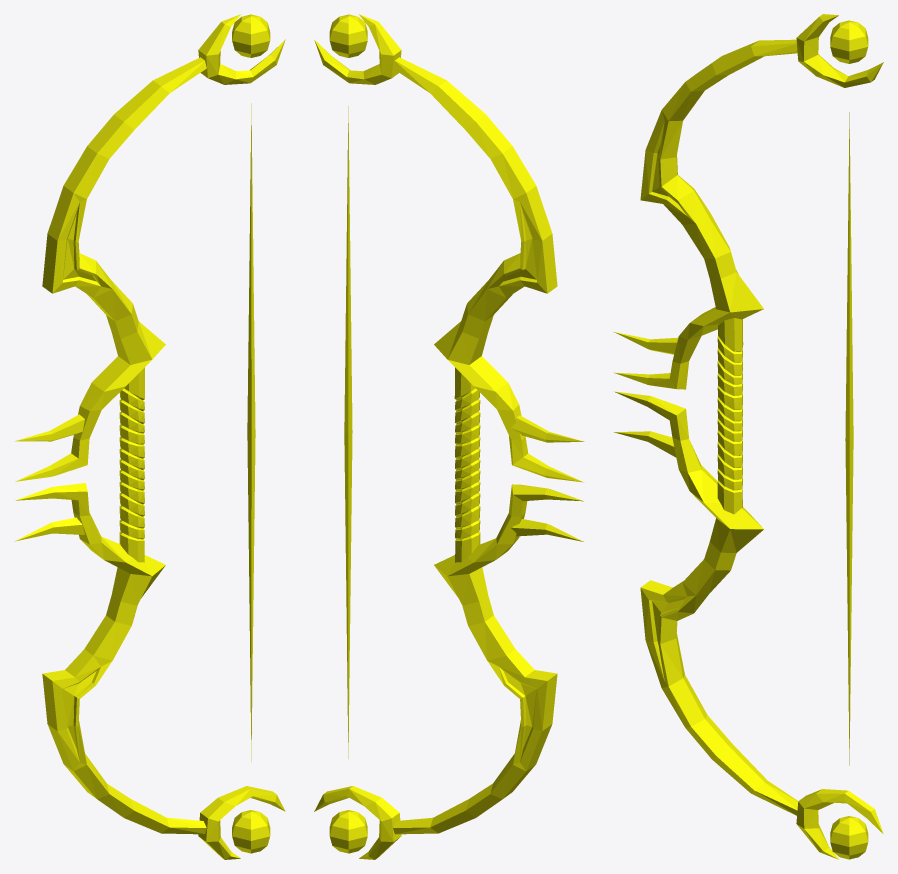
The model's file is _bow_12.glb.
3 views of the same model, side by side, from view 1: azimuth 30°, elevation 25°; view 2: azimuth 150°, elevation 25°; view 3: azimuth 330°, elevation 25° (orthographic).
Visible parts, largest first — view 1: bow_12; view 2: bow_12; view 3: bow_12.
Boxes of the visible parts, bbox=[...] form: bow_12: bbox=[15, 14, 285, 859]; bow_12: bbox=[314, 14, 584, 859]; bow_12: bbox=[613, 14, 883, 859].
Bounding box in the file's own units: 0.4175 × 1.24 × 0.054.
Materials: 1 (1 with a texture image).
